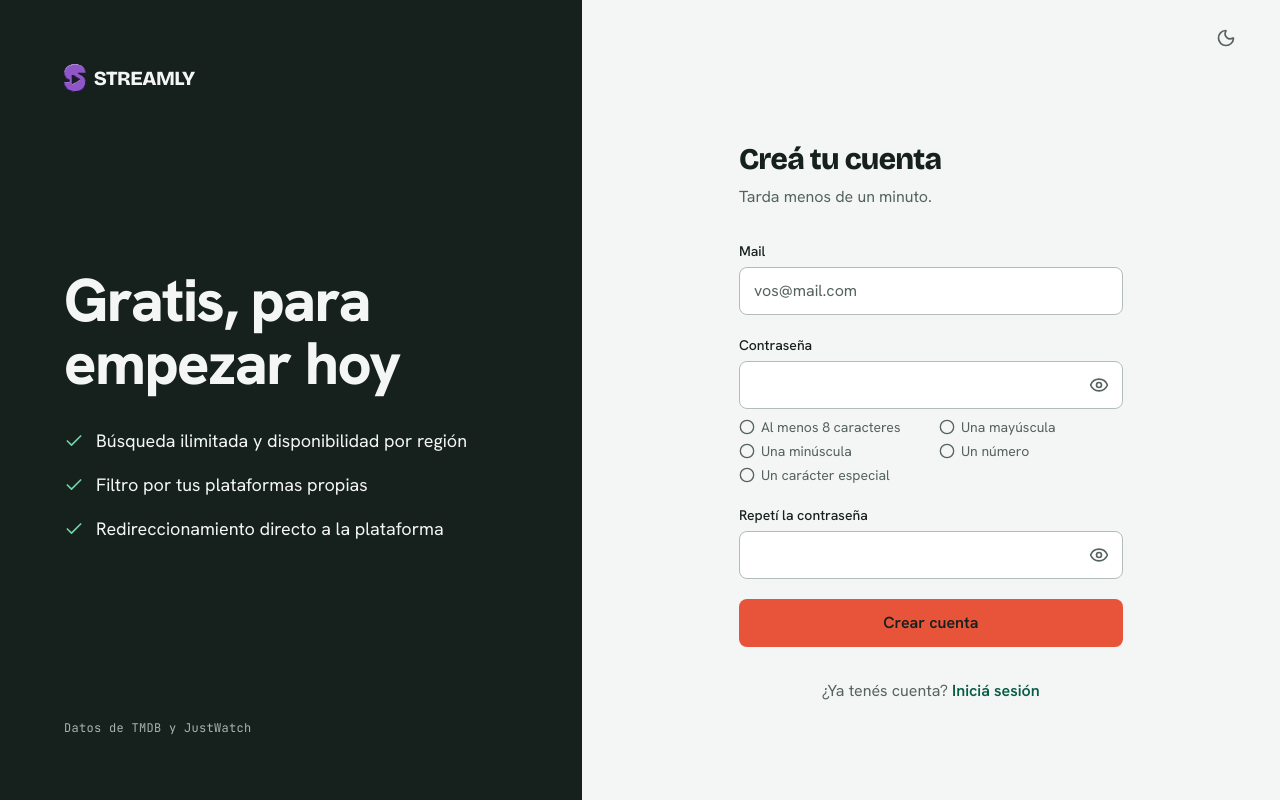
Test: Registro (E4HU2) › crea la cuenta, deja la sesión iniciada y lleva al inicio
Type "ana@mail.com" into the field labelled "Mail" at {"x": 931, "y": 291}, box [739,267,1123,315]
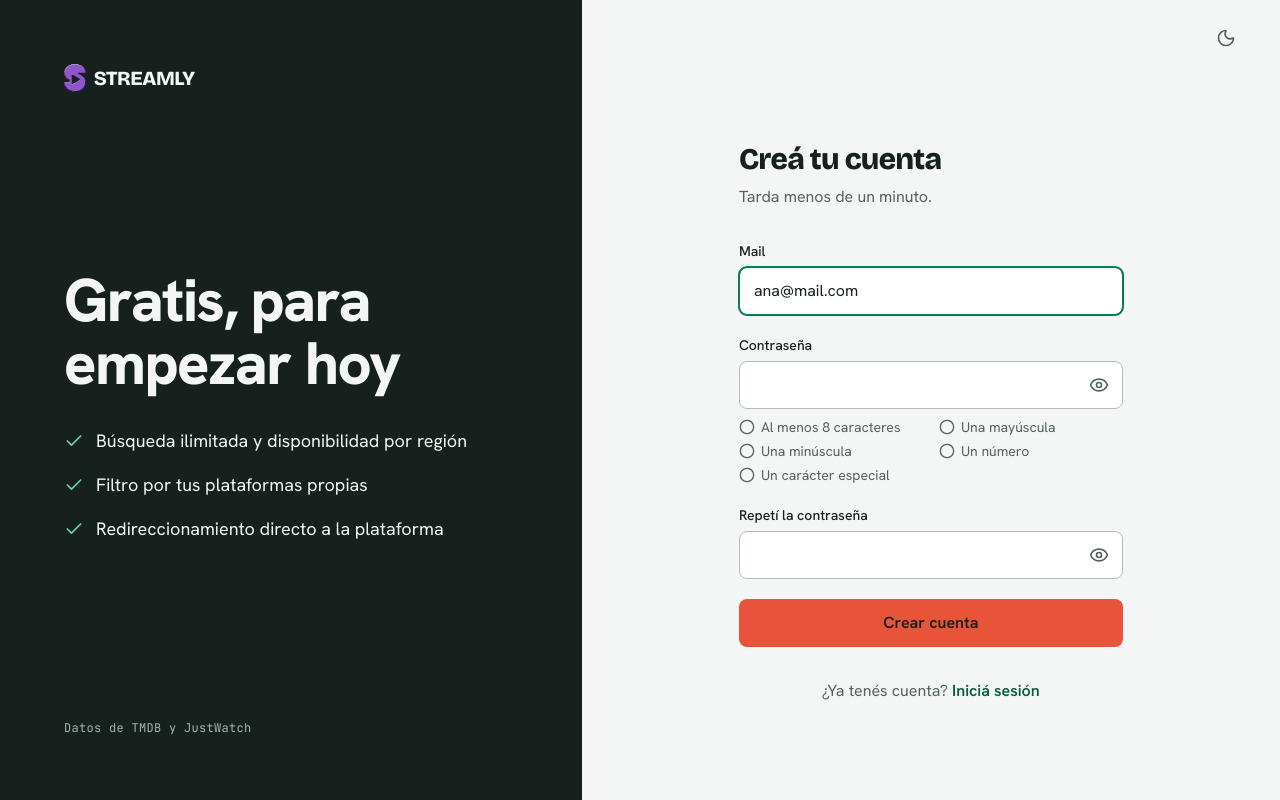
Type "Segura#2026" into the password field labelled "Contraseña" at {"x": 931, "y": 385}, box [739,361,1123,409]
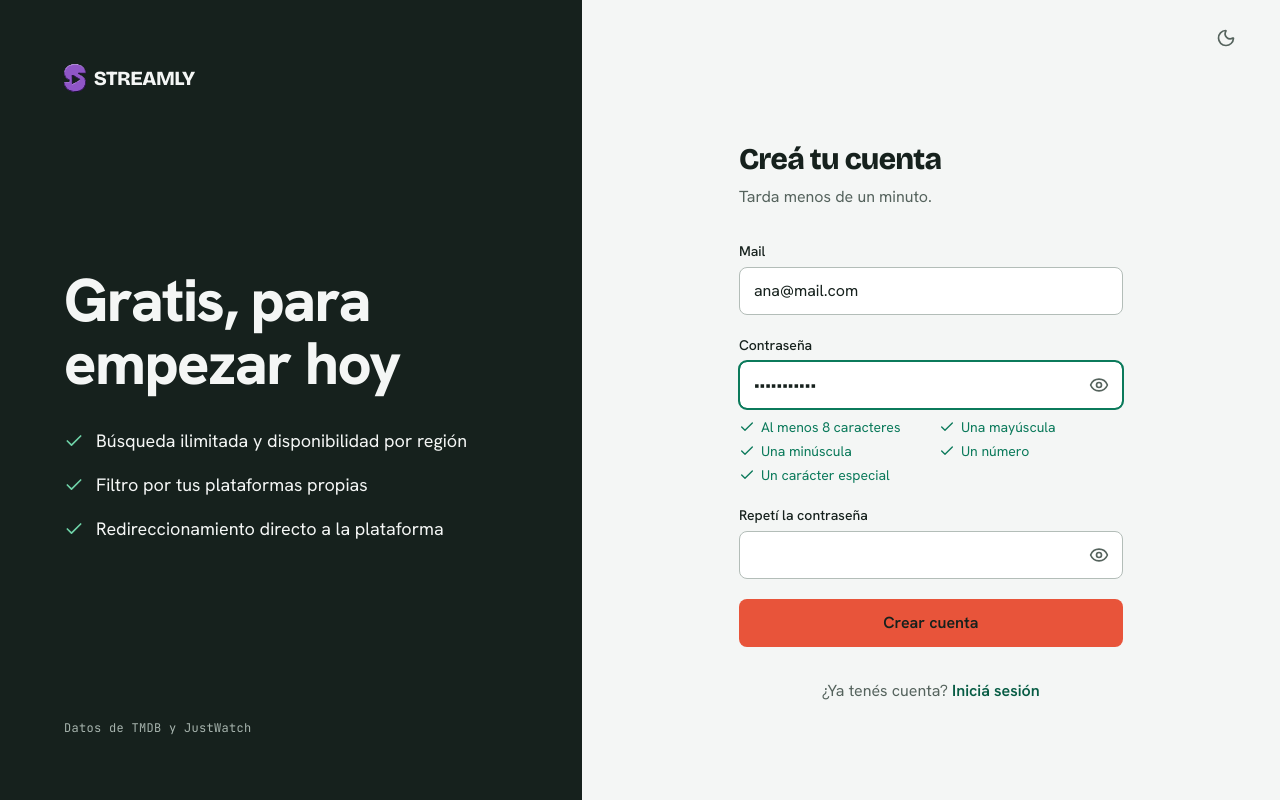
Type "Segura#2026" into the password field labelled "Repetí la contraseña" at {"x": 931, "y": 555}, box [739,531,1123,579]
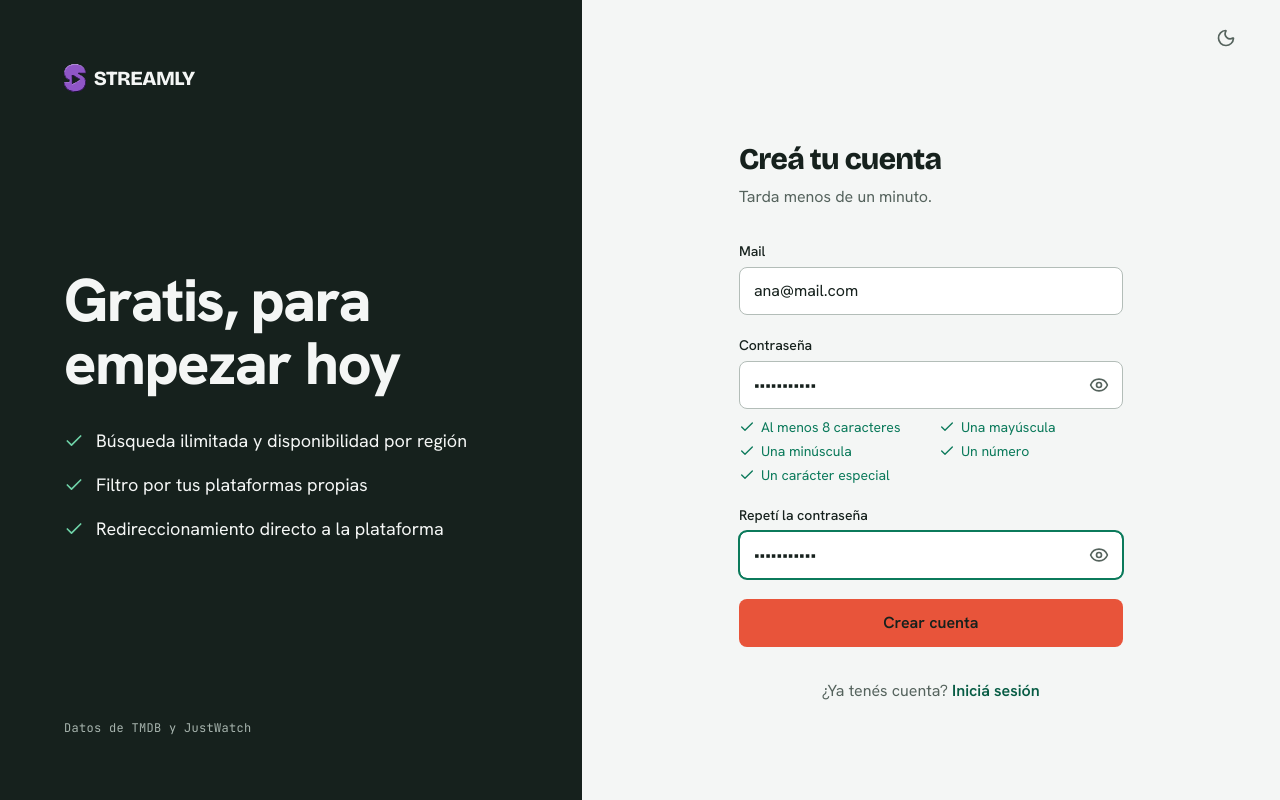
Click the button "Crear cuenta" at {"x": 931, "y": 623}, box [739,599,1123,647]
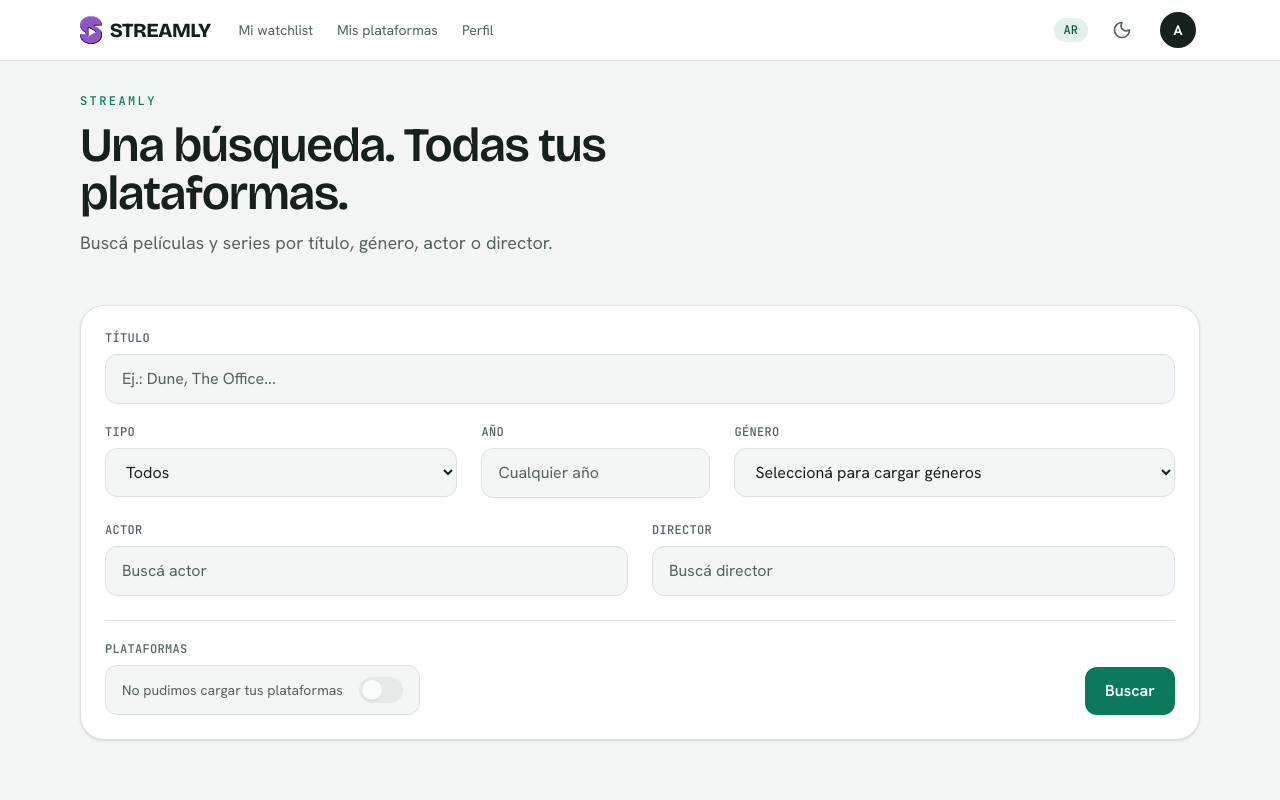
Expected: the button named "Menú de la cuenta de ana@mail.com" is shown, [1156,8,1200,52]
Now the heading "Una búsqueda. Todas tus plataformas." is shown, box [80,116,606,222]
